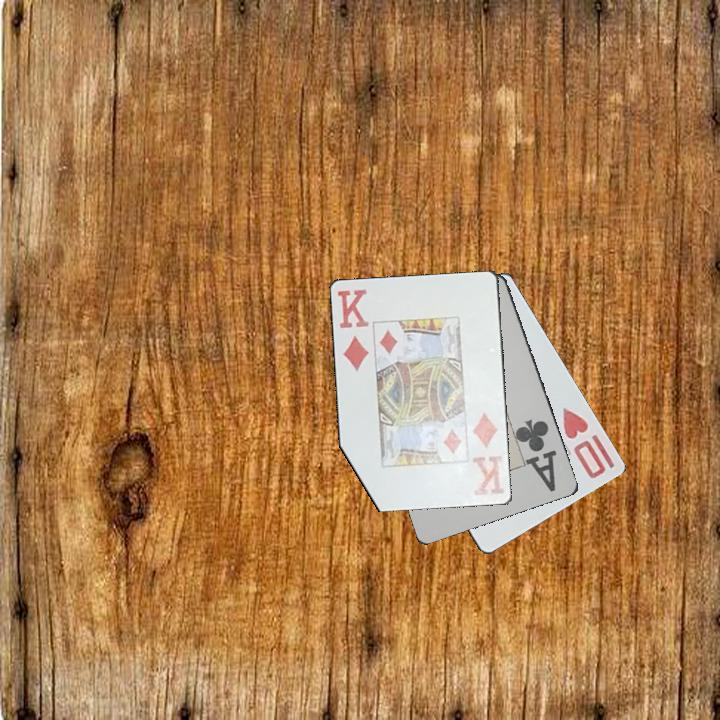Ac: (514, 415, 560, 495)
Kd: (469, 410, 507, 500), (334, 286, 372, 375)
Th: (559, 403, 609, 482)
